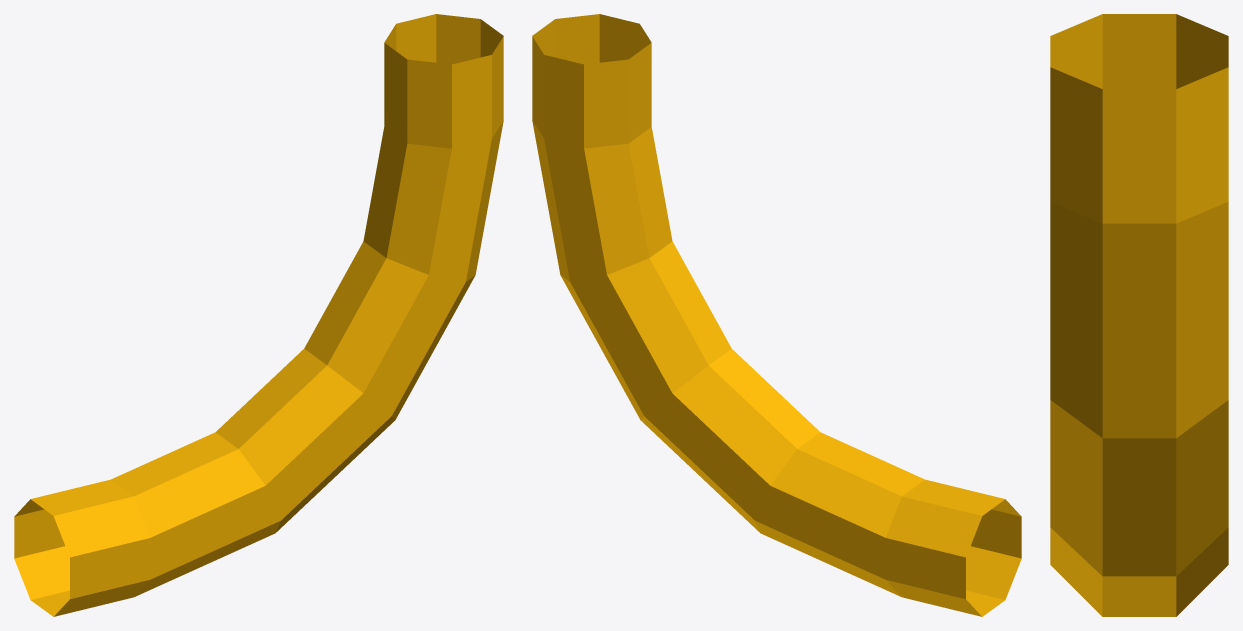
Rendered from fpe_fluid_line_angle.dae.
3 renders of one model, left to right at view 1: azimuth 30°, elevation 25°; view 2: azimuth 150°, elevation 25°; view 3: azimuth 270°, elevation 25°, orthographic. The views are drawn at different scales.
Parts seen in each view (by area): view 1: fluid_line_angle; view 2: fluid_line_angle; view 3: fluid_line_angle.
Part boxes in pixels (x1,y1,x2,y2): fluid_line_angle: (14, 14, 503, 616); fluid_line_angle: (532, 14, 1021, 616); fluid_line_angle: (1050, 14, 1228, 616).
Bounding box in the file's own units: 0.14 × 0.03 × 0.14.
